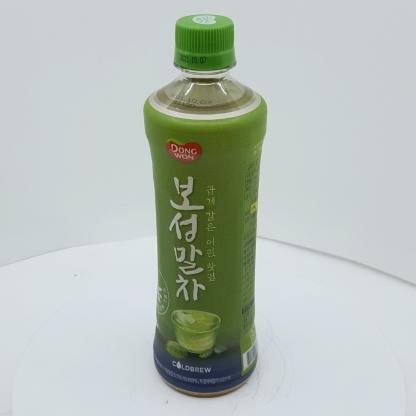------500ML: (143, 14, 267, 397)
